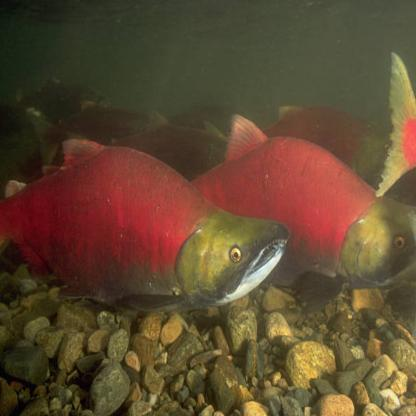sockeye: (12, 136, 283, 305), (204, 121, 416, 285)
sockeye-group: (7, 115, 416, 309)
